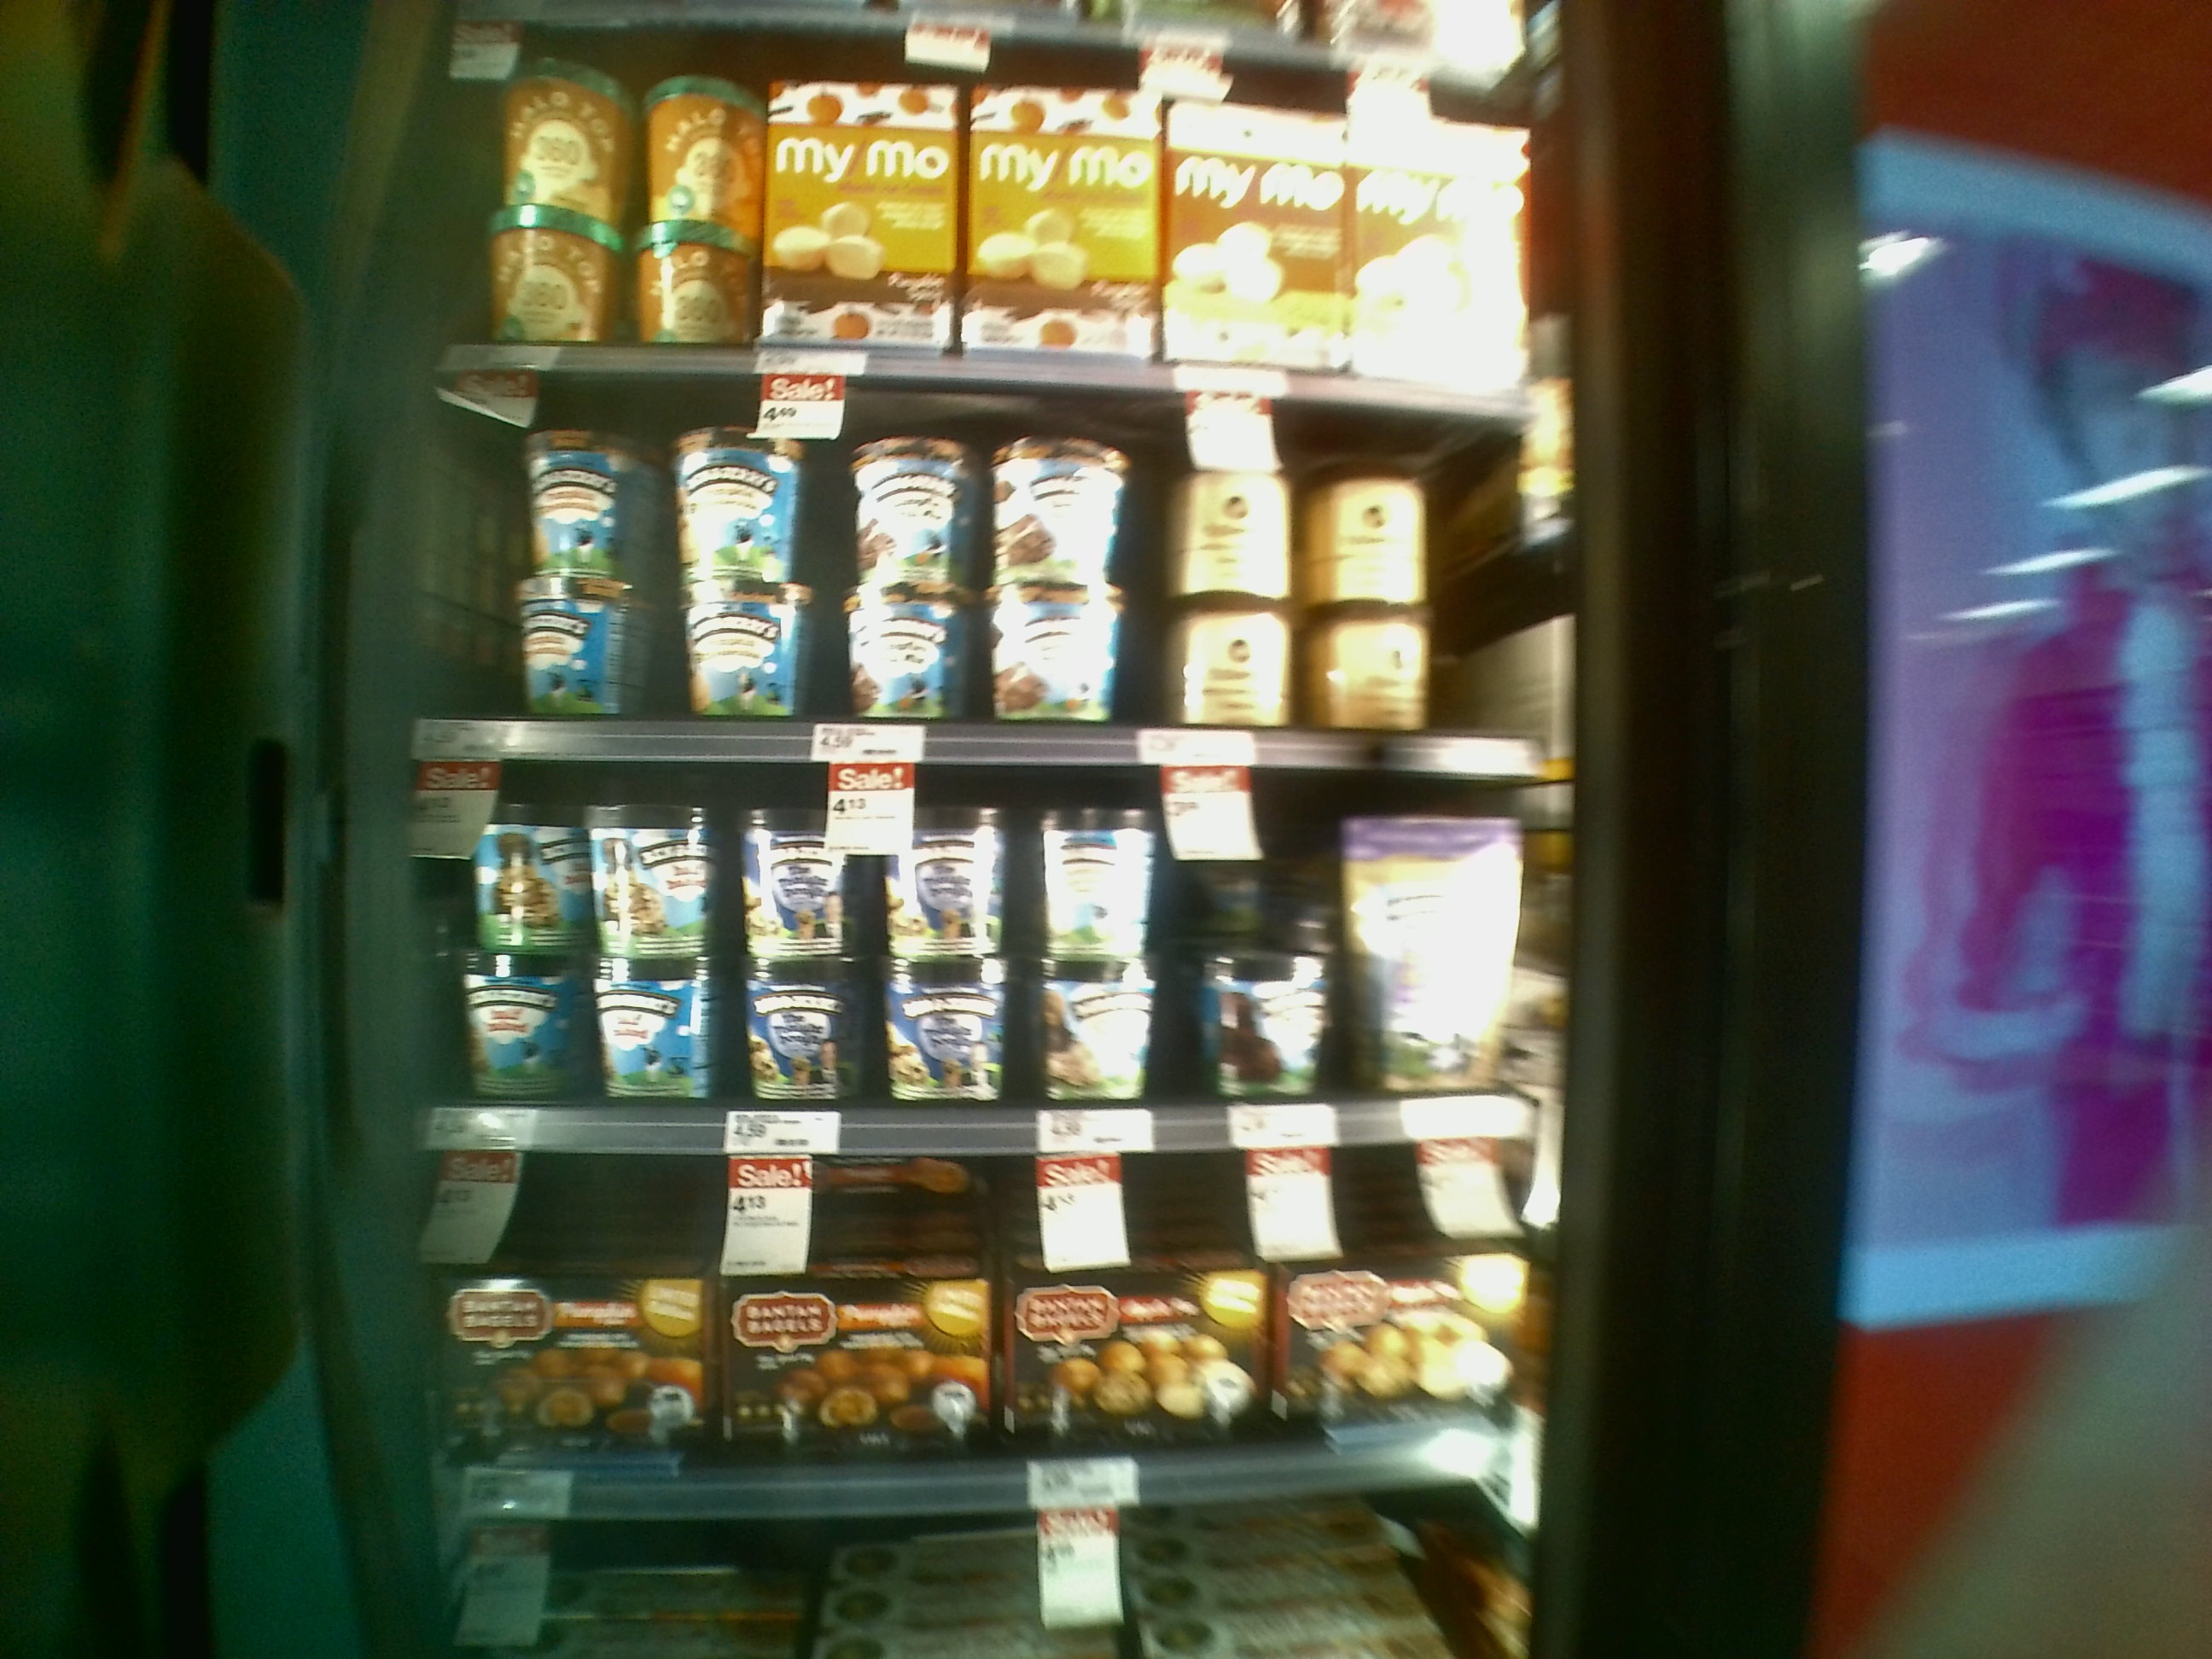shelf: (397, 338, 1569, 770), (387, 1100, 1569, 1507), (392, 742, 1564, 1154)
